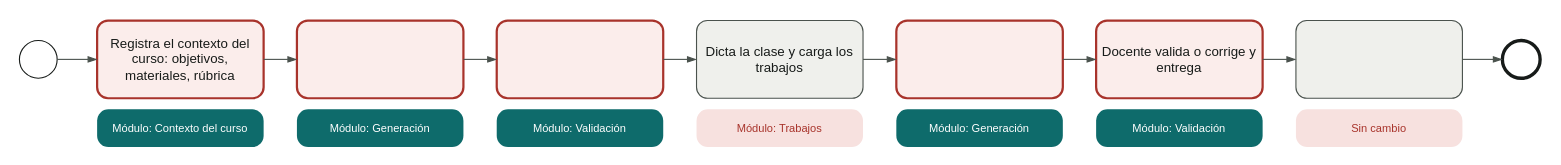
The diagram is 1561 pixels wide and 165 high, and some of its shapes have lost their labels. Each missing label, with the centre of its shape:
Genera borrador del plan de clase con IA: (379,59)
IA genera borrador de retroalimentación por criterio: (979,59)
Registra notas en la plataforma del colegio: (1378,58)
Revisa, ajusta y aprueba el plan: (579,59)
